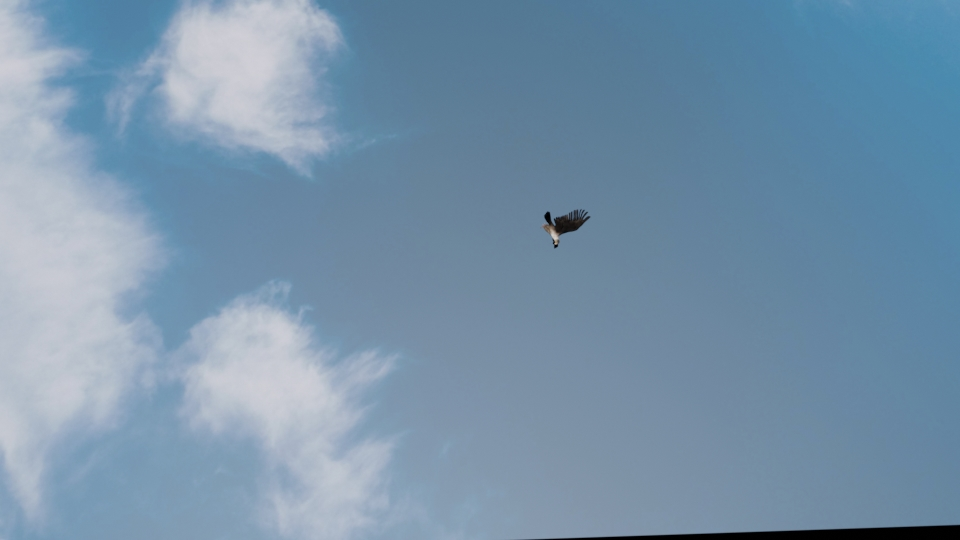bird: (541, 205, 591, 248)
